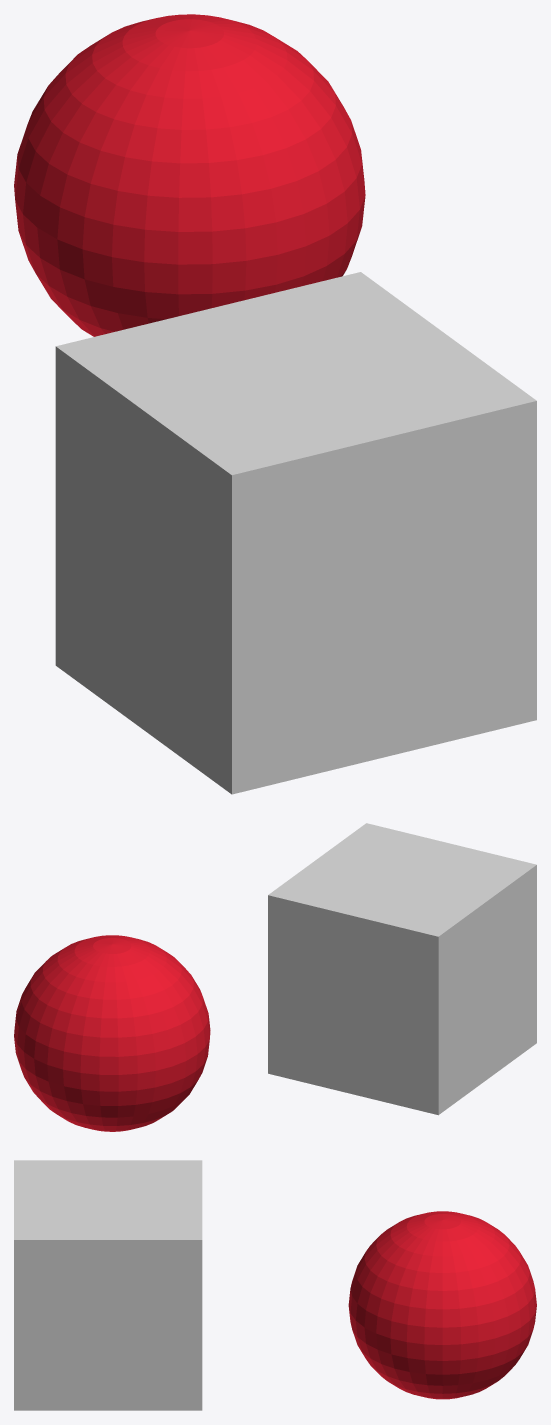
The model's file is two-shapes.glb.
The picture shows the model from 3 angles, top to bottom: view 1: azimuth 30°, elevation 25°; view 2: azimuth 150°, elevation 25°; view 3: azimuth 270°, elevation 25°; orthographic projection. The views are drawn at different scales.
Visible parts, largest first — view 1: Cube, Sphere; view 2: Cube, Sphere; view 3: Cube, Sphere.
Boxes of the visible parts, <box> form: Cube: <box>55,272,536,794</box>; Sphere: <box>14,14,365,336</box>; Cube: <box>268,823,536,1115</box>; Sphere: <box>14,935,210,1131</box>; Cube: <box>14,1160,202,1410</box>; Sphere: <box>348,1211,536,1399</box>.
Size of the model in its own units: 3.35 by 2.4 by 5.55.
